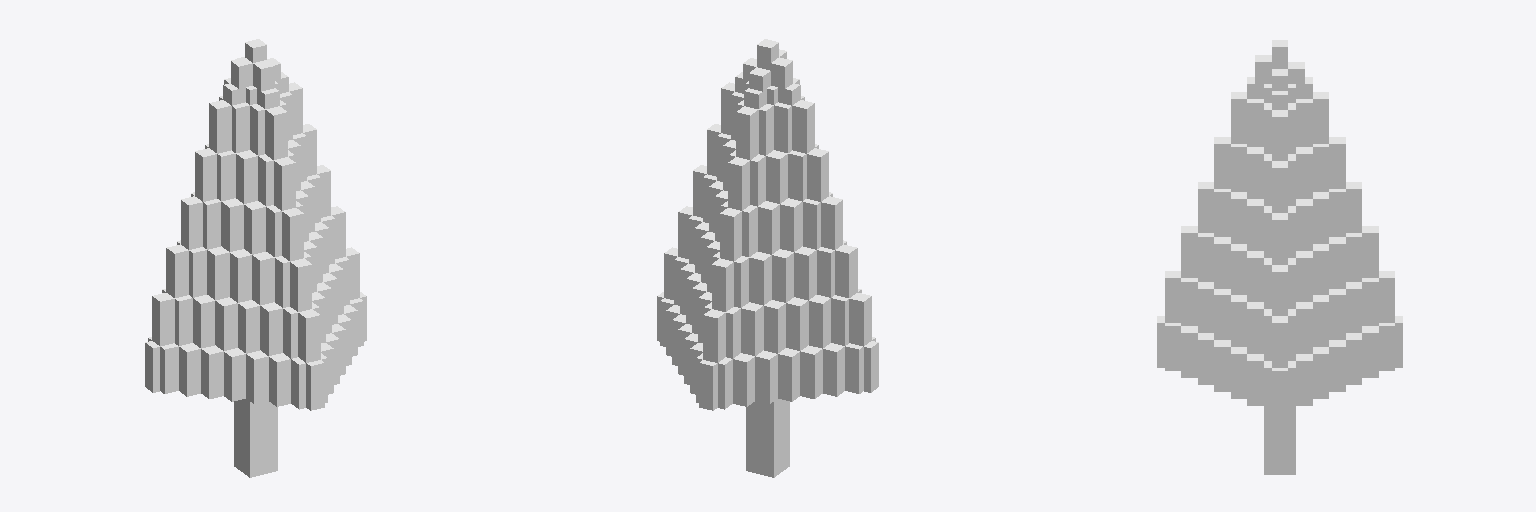
The model's file is Tanne.obj.
3 views of the same model, side by side, from view 1: azimuth 30°, elevation 25°; view 2: azimuth 150°, elevation 25°; view 3: azimuth 270°, elevation 25° (orthographic).
Size of the model in its own units: 30 by 57 by 30.